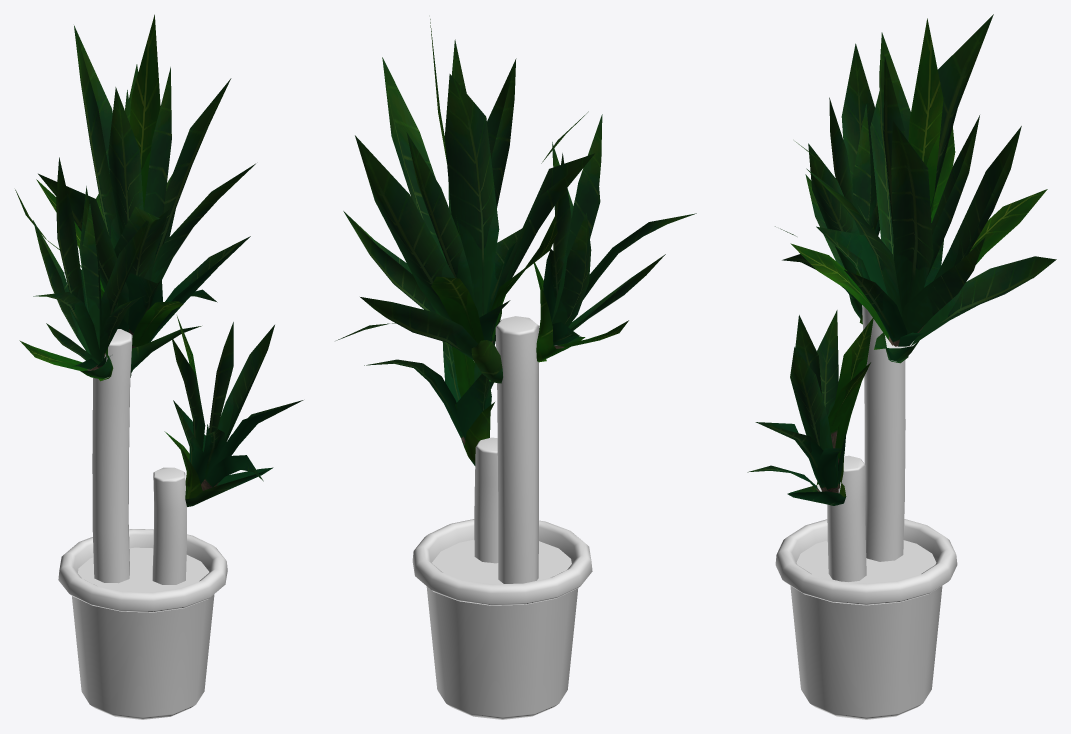
Rendered from pianta_yucca.fbx.
3 renders of one model, left to right at view 1: azimuth 30°, elevation 25°; view 2: azimuth 150°, elevation 25°; view 3: azimuth 270°, elevation 25°, orthographic. The views are drawn at different scales.
Visible parts, largest first — view 1: Leaf1_low__mPlant, LeafRoot_low__mReBody; view 2: Leaf1_low__mPlant, LeafRoot_low__mReBody; view 3: Leaf1_low__mPlant, LeafRoot_low__mReBody.
Part boxes in pixels (<box>): Leaf1_low__mPlant: <box>15,14,303,506</box>; LeafRoot_low__mReBody: <box>58,329,227,719</box>; Leaf1_low__mPlant: <box>336,19,696,465</box>; LeafRoot_low__mReBody: <box>412,316,592,719</box>; Leaf1_low__mPlant: <box>747,14,1056,505</box>; LeafRoot_low__mReBody: <box>775,305,957,719</box>.
Size of the model in its own units: 284 by 638 by 274.
